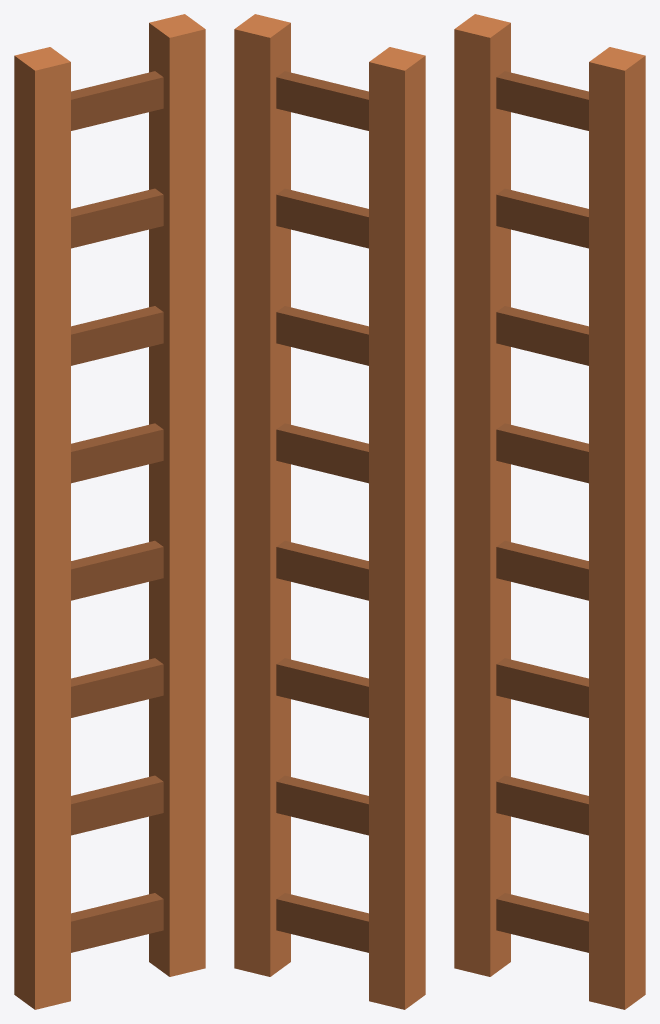
The model's file is ladderLong.glb.
3 renders of one model, left to right at view 1: azimuth 30°, elevation 25°; view 2: azimuth 150°, elevation 25°; view 3: azimuth 330°, elevation 25°, orthographic.
Visible parts, largest first — view 1: ladderLong; view 2: ladderLong; view 3: ladderLong.
Part boxes in pixels (x1,y1,x2,y2): ladderLong: (14,14,205,1009); ladderLong: (234,14,425,1009); ladderLong: (454,14,645,1009).
Size of the model in its own units: 0.38 by 2 by 0.08.
